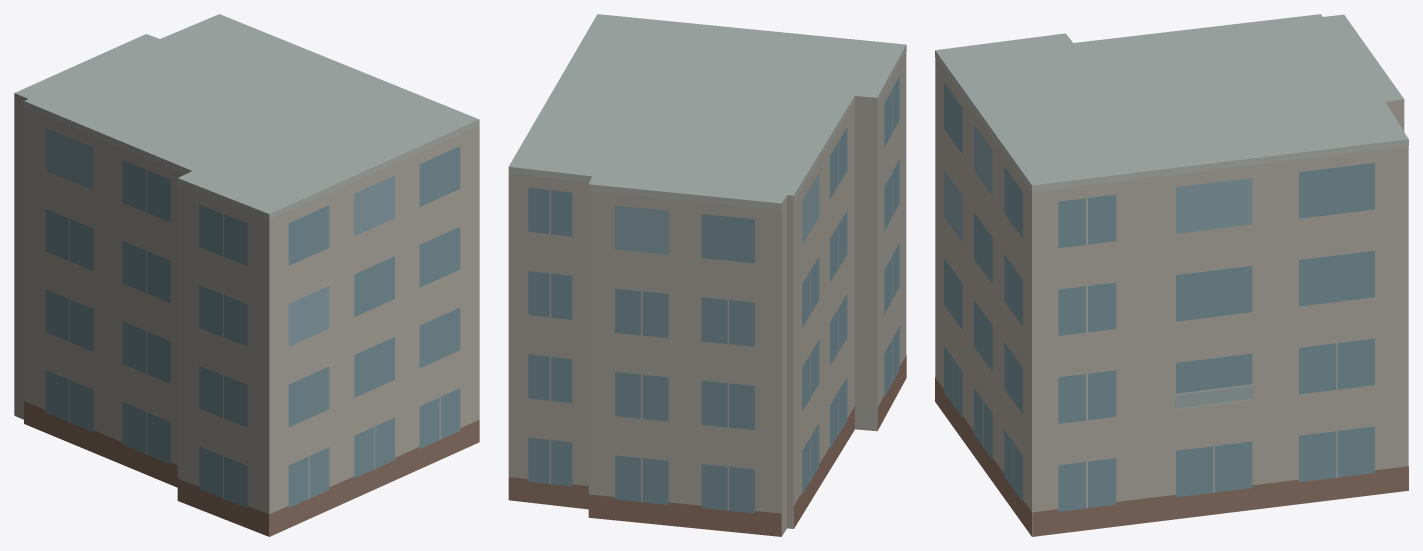
File: survey-upis-32967366.glb
3 views of the same model, side by side, from view 1: azimuth 30°, elevation 25°; view 2: azimuth 150°, elevation 25°; view 3: azimuth 270°, elevation 25° (orthographic). The views are drawn at different scales.
Parts seen in each view (by area): view 1: survey-upis-32967366.tmp; view 2: survey-upis-32967366.tmp; view 3: survey-upis-32967366.tmp.
Part boxes in pixels (x1,y1,x2,y2): survey-upis-32967366.tmp: (14,14,479,536); survey-upis-32967366.tmp: (508,14,906,536); survey-upis-32967366.tmp: (935,14,1408,536).
Size of the model in its own units: 13.09 by 12.5 by 15.28.
